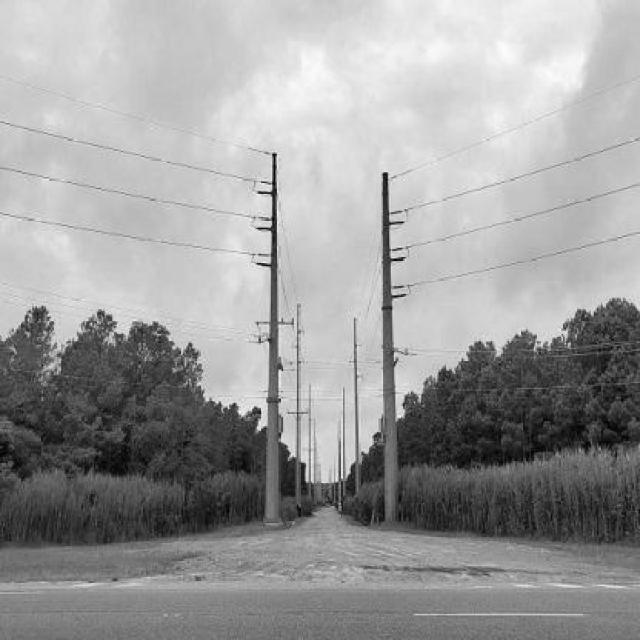Pole: (259, 153, 281, 523), (384, 172, 398, 522)
